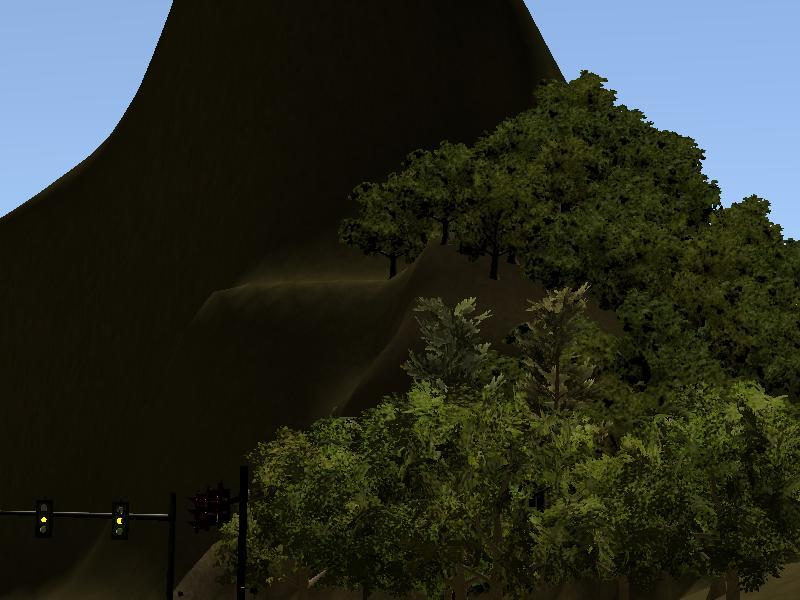Yellow: (34, 500, 53, 538), (111, 502, 130, 540)
